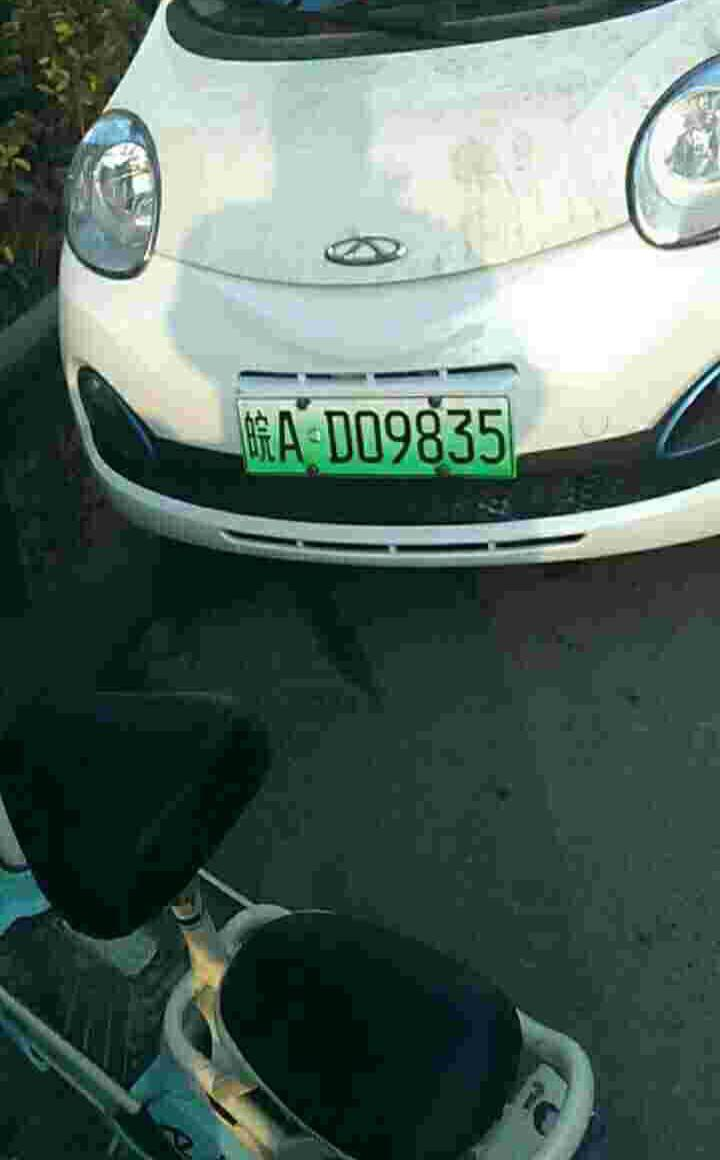car: (235, 392, 516, 482)
